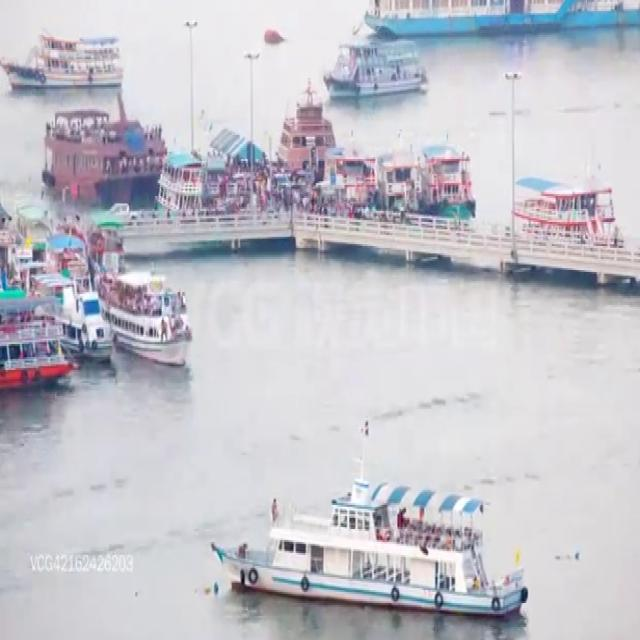passenger ship: (212, 440, 532, 620), (23, 97, 159, 213), (114, 259, 212, 390), (0, 23, 141, 90), (327, 20, 434, 105), (516, 165, 610, 233), (266, 77, 347, 153), (416, 144, 484, 221)
